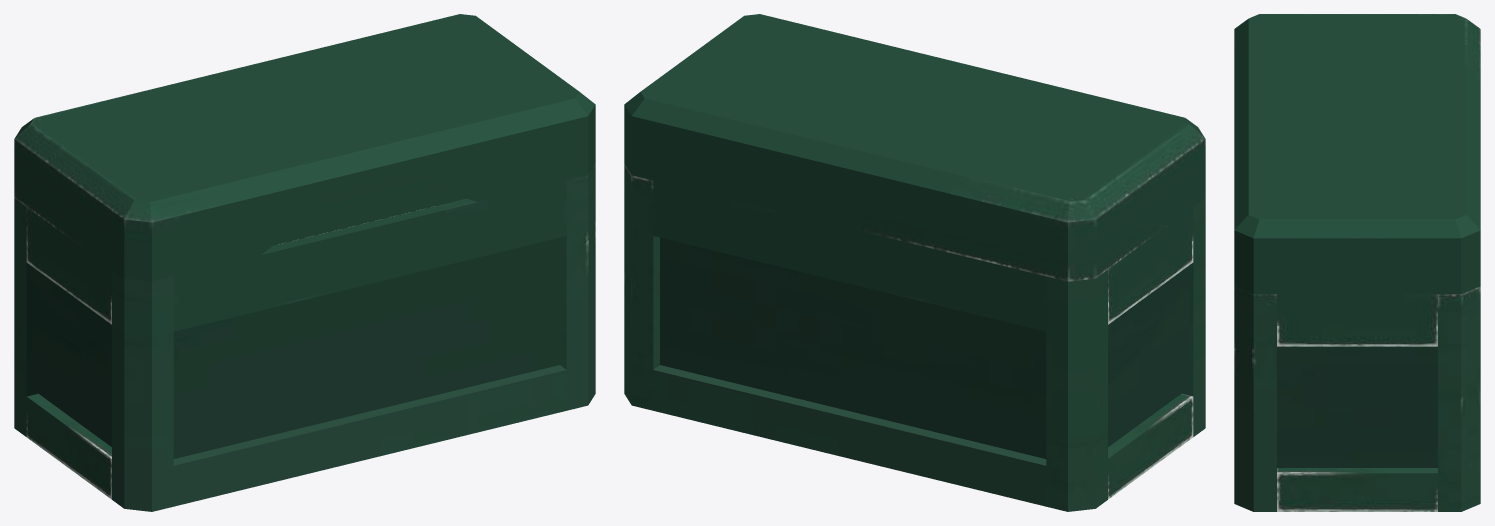
Rendered from Cont_Chest_Static.glb.
The picture shows the model from 3 angles, left to right: view 1: azimuth 30°, elevation 25°; view 2: azimuth 150°, elevation 25°; view 3: azimuth 270°, elevation 25°; orthographic projection. The views are drawn at different scales.
Visible parts, largest first — view 1: Cont_Chest_Static; view 2: Cont_Chest_Static; view 3: Cont_Chest_Static.
Part boxes in pixels (x1,y1,x2,y2): Cont_Chest_Static: (14, 14, 595, 511); Cont_Chest_Static: (624, 14, 1205, 511); Cont_Chest_Static: (1234, 14, 1480, 511).
Size of the model in its own units: 1.34 by 0.823 by 0.6414.
Materials: 1 (1 with a texture image).
